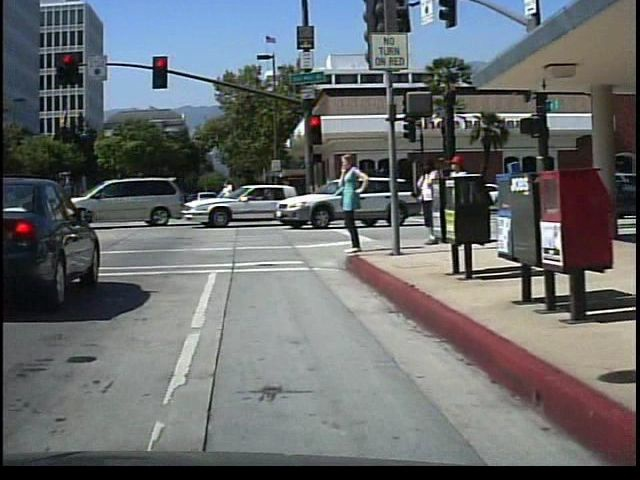person: (333, 148, 369, 258), (439, 146, 474, 247), (416, 149, 437, 245)
